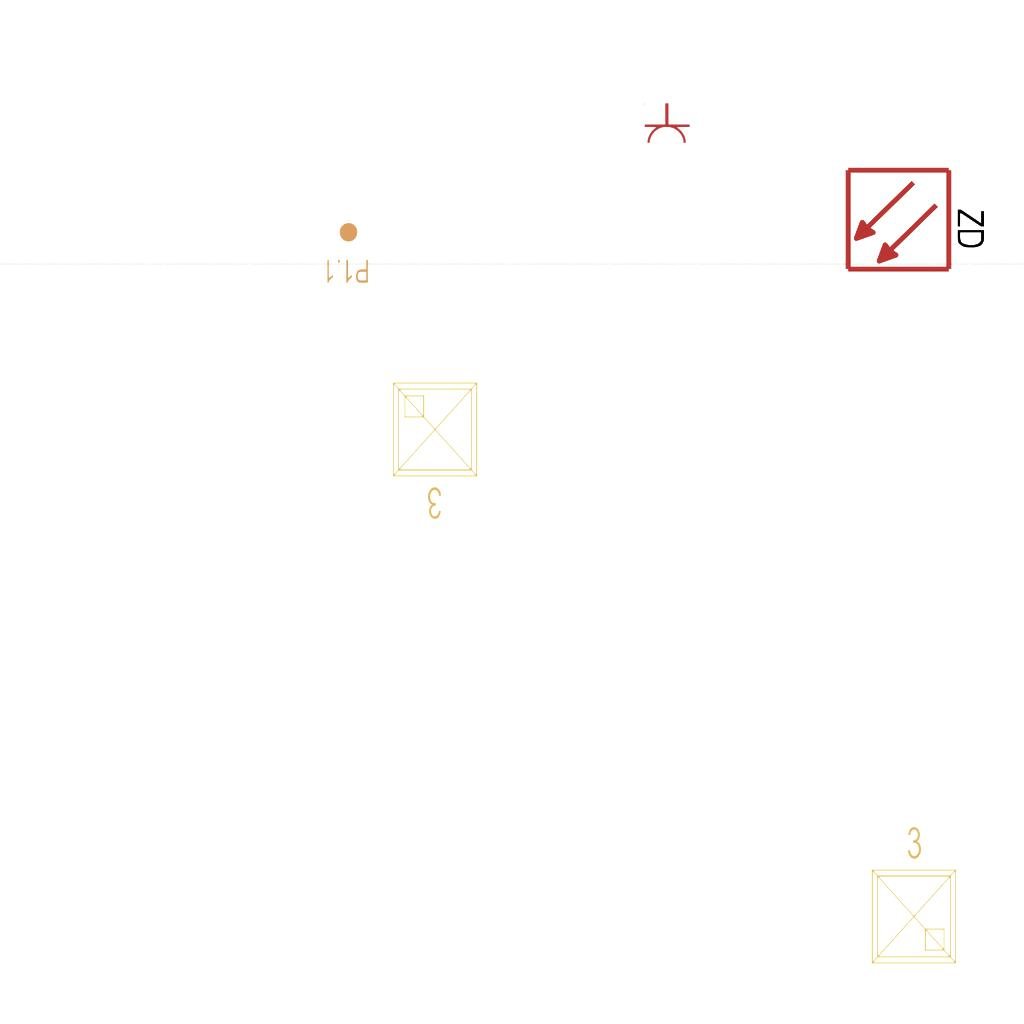Downlight_LED_Einbauleuchten_Flur: (324, 221, 370, 285)
Einbaudownlights_LED_Konferenzraeume: (860, 821, 964, 971), (385, 375, 489, 525)
Schukosteckdose_einfach: (641, 102, 691, 145)
ZD_Melder_in_Zwischendecke_mit_Revisionsoeffnung_mind_40_x_40_cm: (843, 161, 992, 275)
